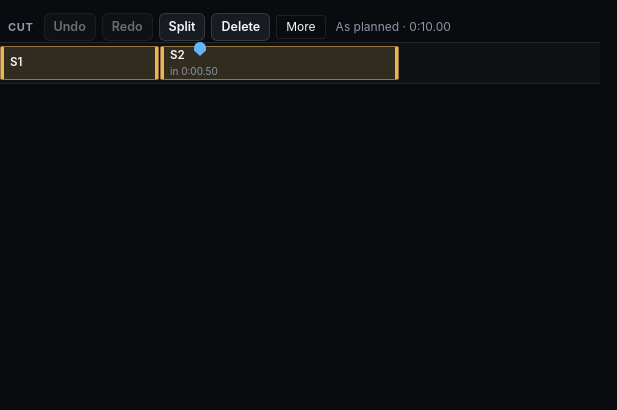
Test: the cut lane › makes preview copies of big clips on request and says how many there are, without touching the cut
The image size is (617, 410).
Check: the button named "S1 from" is shown, box [8, 47, 151, 79]
Click the heading "More". click: (301, 27)
box: [276, 15, 326, 39]
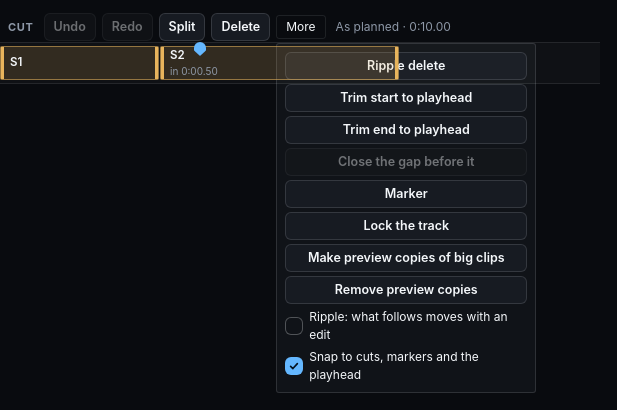
Click the button "Make preview copies of big clips". click: (406, 258)
box: [285, 244, 527, 272]
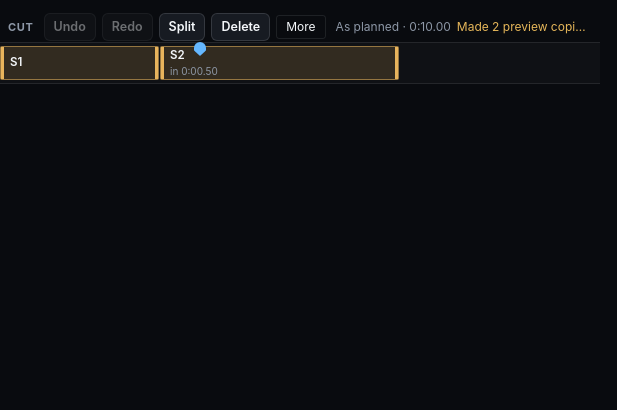
Check: the text "Made 2 preview copies. 3 of 3 big clips have one." is shown, box [457, 18, 592, 36]
